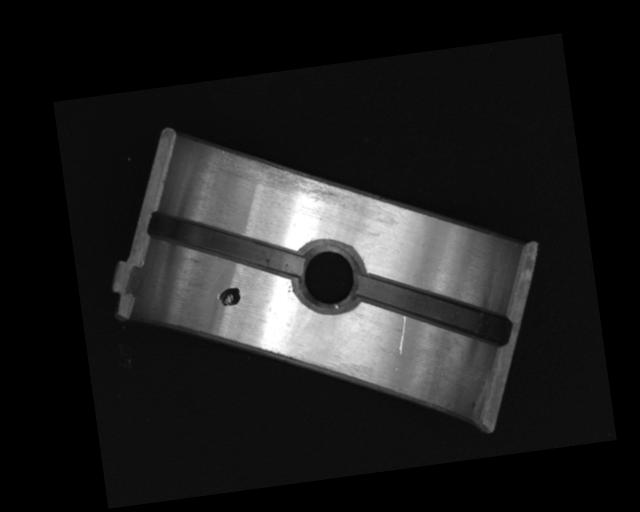blot: (215, 286, 242, 307)
gap: (356, 256, 510, 363), (147, 194, 304, 295)
hole: (290, 235, 366, 318)
nick: (393, 314, 410, 355)
scratch: (220, 133, 360, 217)
